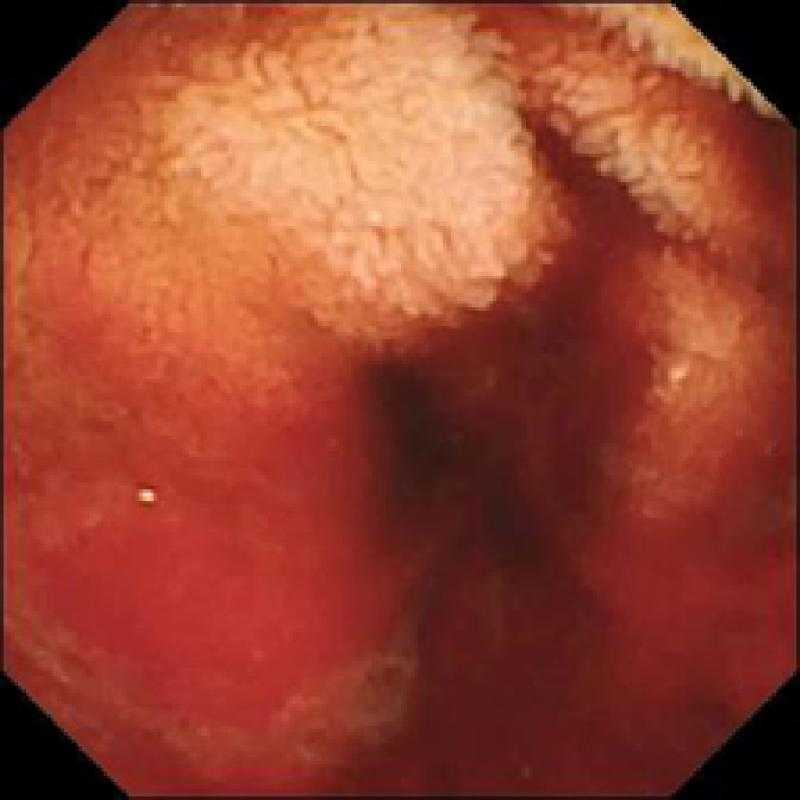bleeding: (0, 75, 800, 786)
